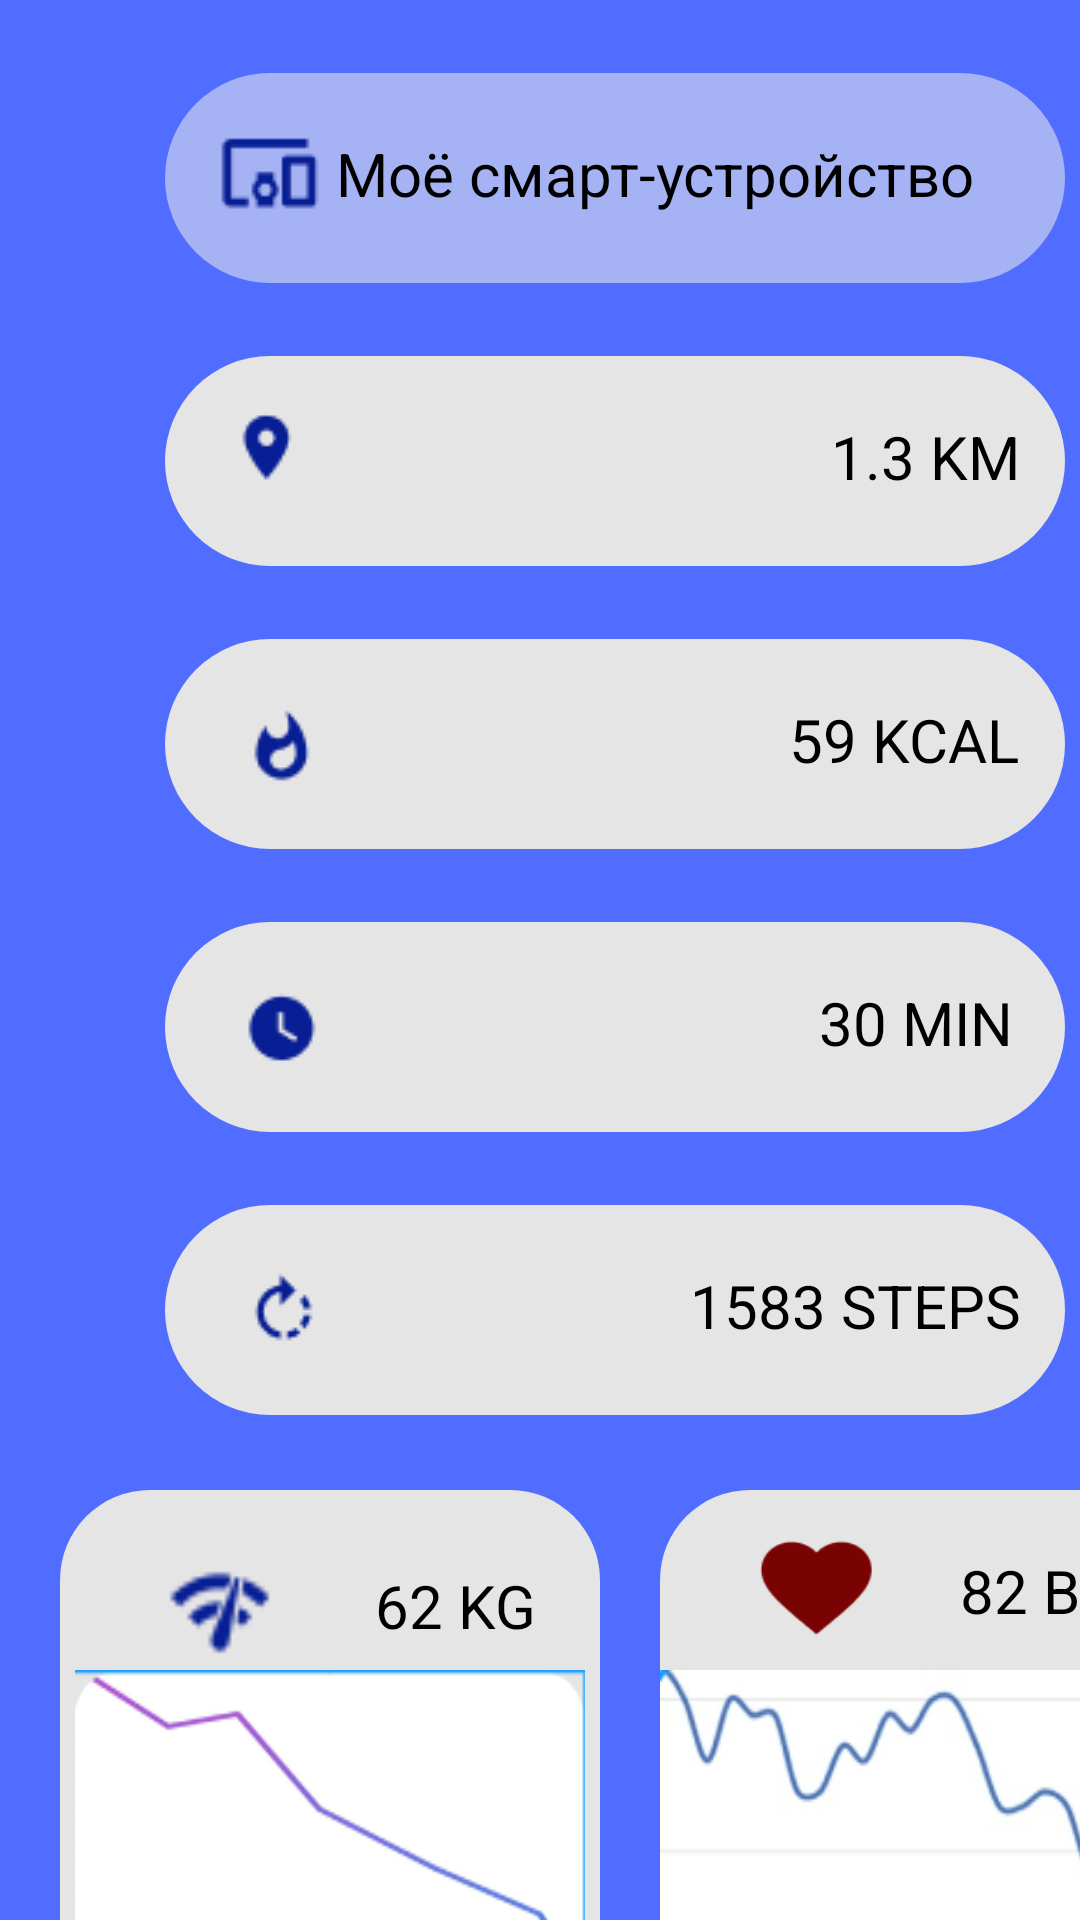

Screen size 1080px×1920px. Icon name, then its box in pixels as {"x1": x1, "y1": y1, "x2": x2, "y2": y2}:
heart: {"x1": 761, "y1": 1541, "x2": 872, "y2": 1634}
wifi: {"x1": 170, "y1": 1572, "x2": 270, "y2": 1653}
